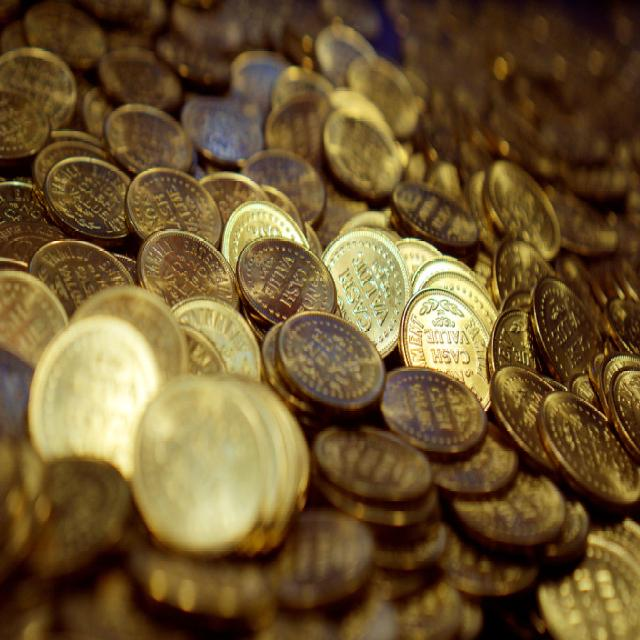Coin: (0, 0, 640, 639), (231, 235, 324, 324)
